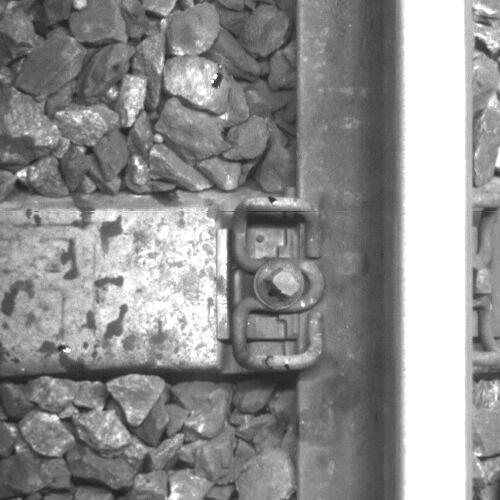rail: (398, 1, 472, 500)
tie_concr: (1, 209, 299, 365)
vossloh: (217, 195, 327, 371)
